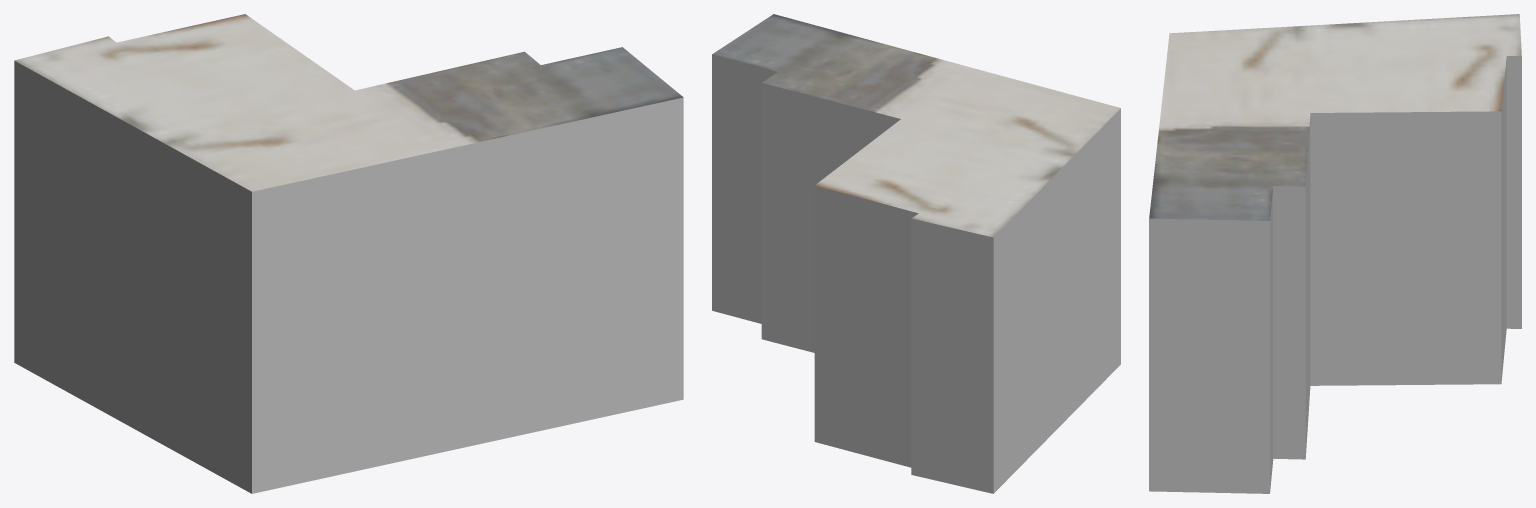
The model's file is DEBW_0010007Tx3u.gltf.
The picture shows the model from 3 angles, left to right: view 1: azimuth 30°, elevation 25°; view 2: azimuth 150°, elevation 25°; view 3: azimuth 270°, elevation 25°; orthographic projection. The views are drawn at different scales.
Visible parts, largest first — view 1: Z_UP; view 2: Z_UP; view 3: Z_UP.
Part boxes in pixels (box(x1,y1,x2,y2)): Z_UP: box(14, 14, 683, 493); Z_UP: box(712, 14, 1120, 493); Z_UP: box(1149, 14, 1521, 493).
Size of the model in its own units: 18.78 by 11.54 by 14.28.
Materials: 2 (1 with a texture image).
